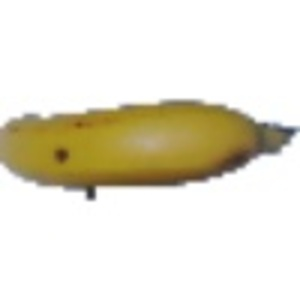banana: (1, 93, 298, 186)
